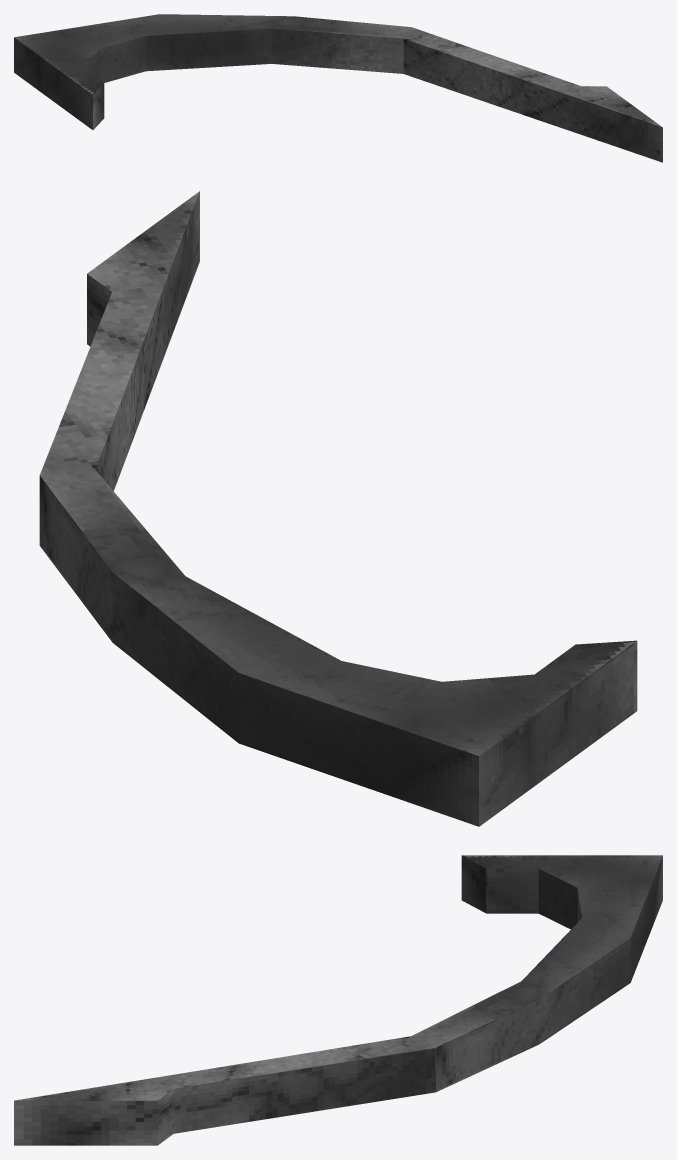
Rendered from smallarc.fbx.
3 views of the same model, one above another, from view 1: azimuth 30°, elevation 25°; view 2: azimuth 150°, elevation 25°; view 3: azimuth 270°, elevation 25° (orthographic). The views are drawn at different scales.
Visible parts, largest first — view 1: BézierCurve.001; view 2: BézierCurve.001; view 3: BézierCurve.001.
Part boxes in pixels (bbox=[...]): BézierCurve.001: bbox=[14, 14, 662, 162]; BézierCurve.001: bbox=[39, 191, 637, 826]; BézierCurve.001: bbox=[14, 855, 662, 1145].
Size of the model in its own units: 1209 by 103 by 1352.
